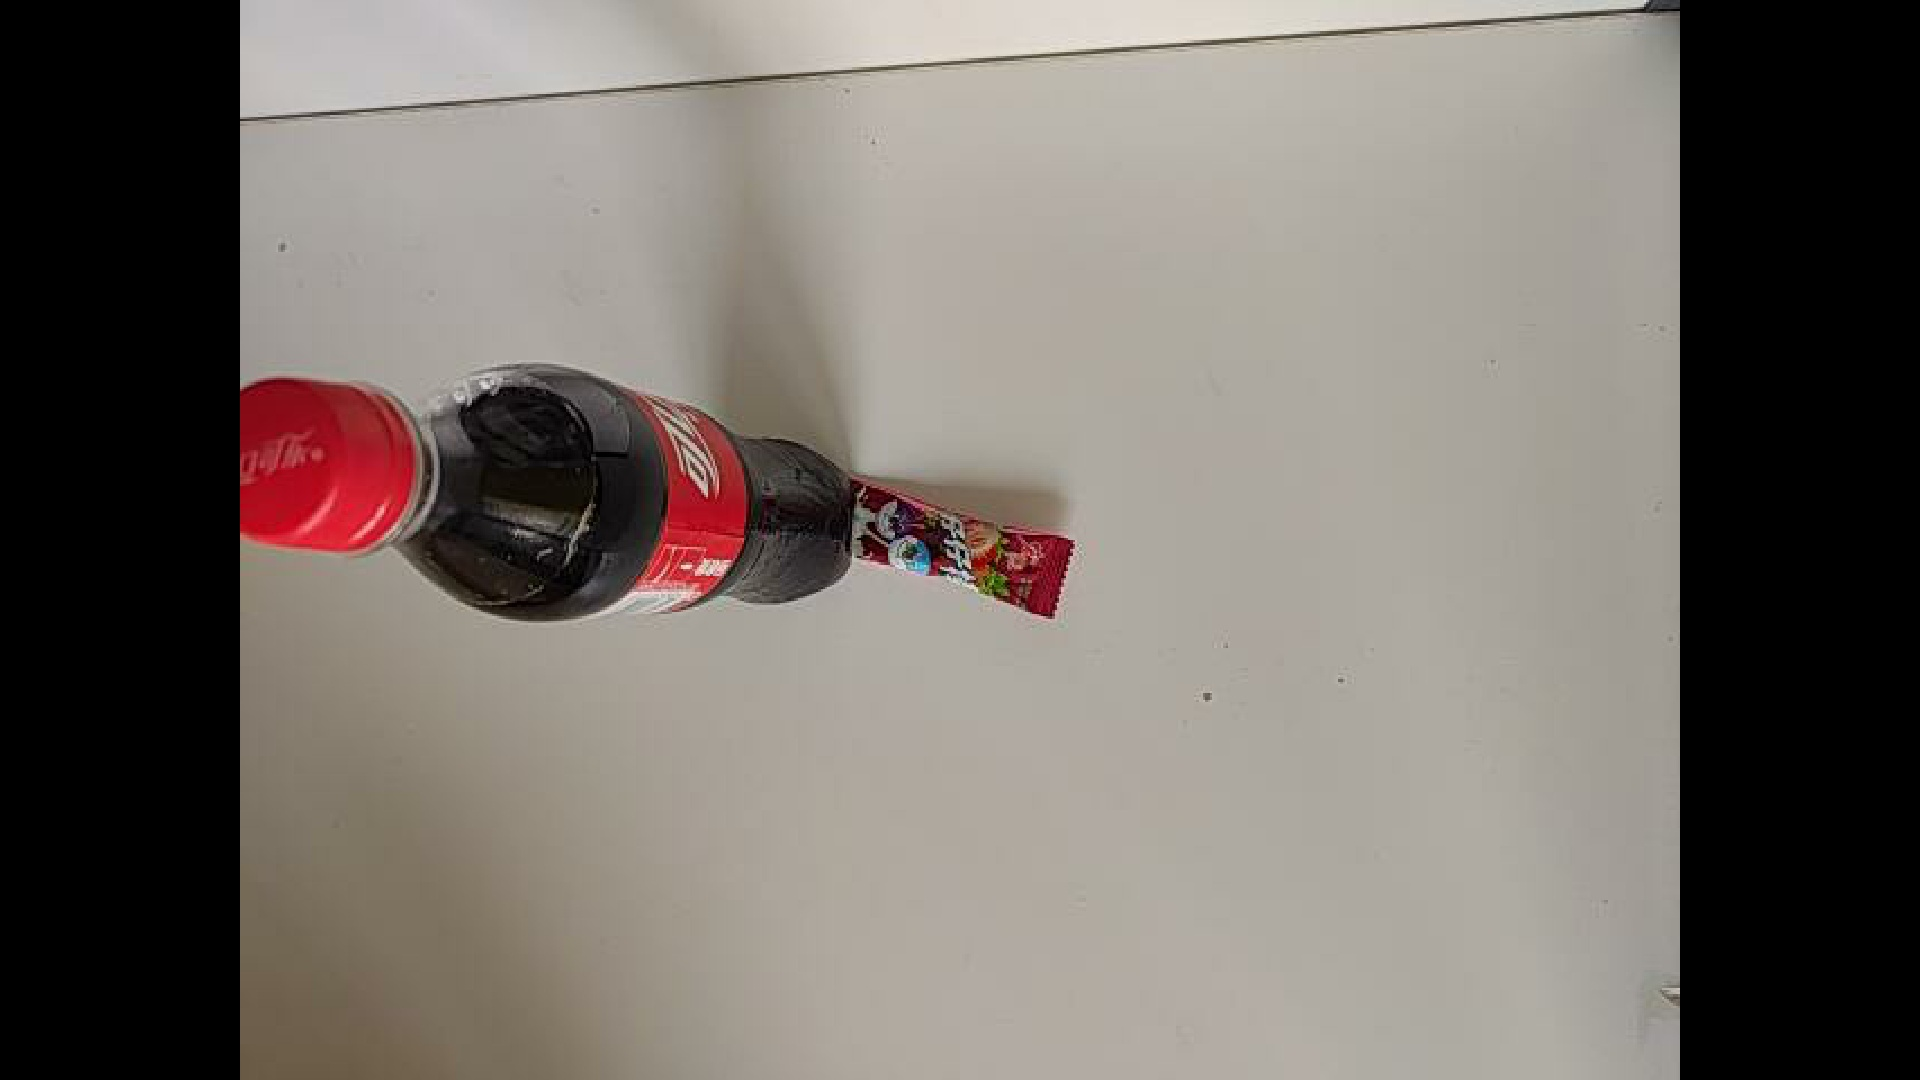cola: (241, 361, 853, 625)
sugar: (815, 477, 1077, 596)
